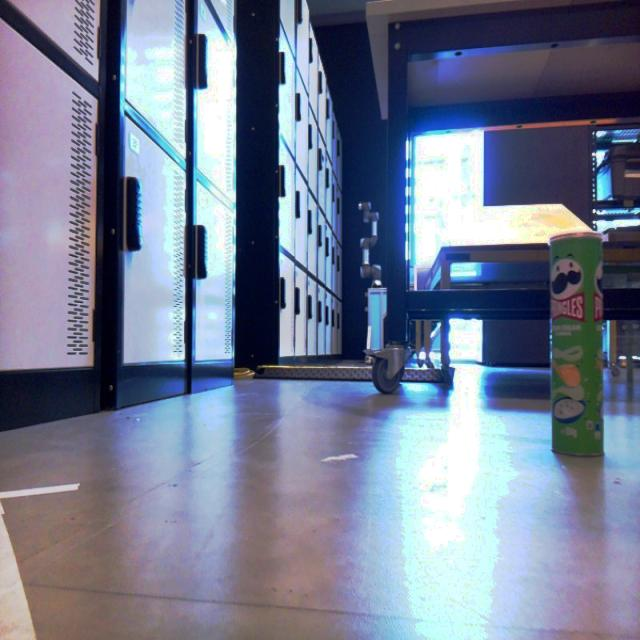greenpringles: (545, 223, 618, 469)
